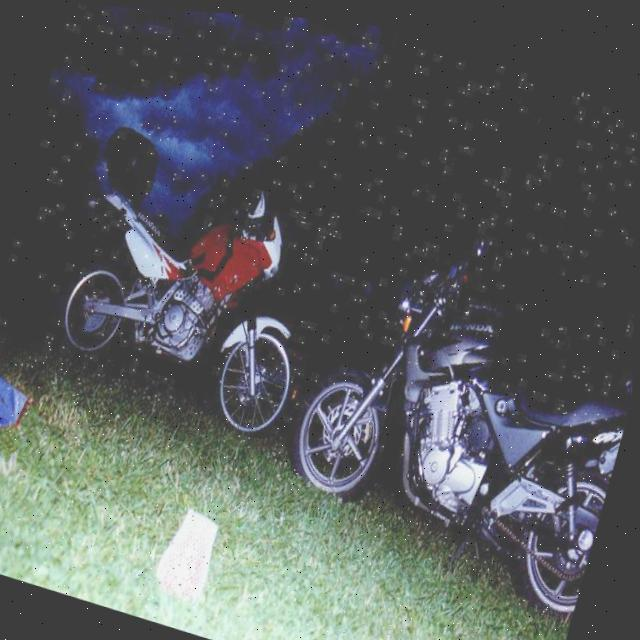motorcycle: (259, 228, 635, 640), (25, 116, 350, 453)
